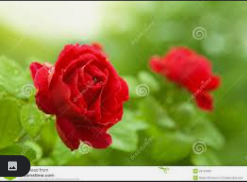RedRose: (27, 39, 131, 156), (145, 33, 225, 117)
